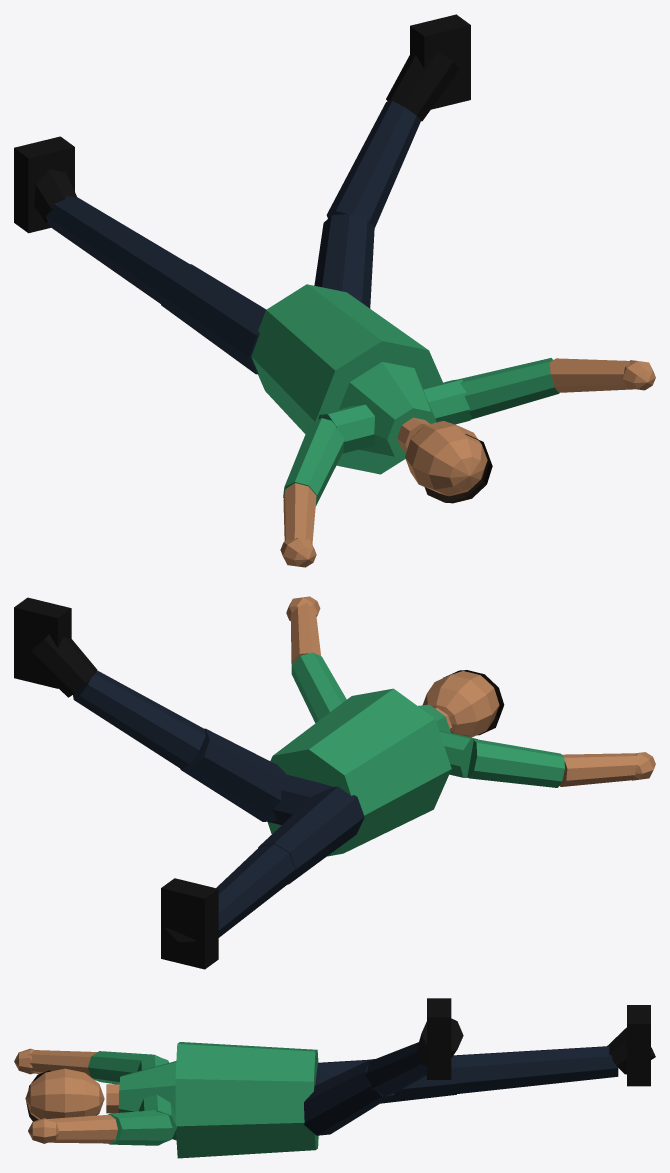
File: dancer_05_one_leg_kick_cm.obj
3 renders of one model, top to bottom at view 1: azimuth 30°, elevation 25°; view 2: azimuth 150°, elevation 25°; view 3: azimuth 270°, elevation 25°, orthographic. The views are drawn at different scales.
Visible parts, largest first — view 1: dancer_05_one_leg_kick; view 2: dancer_05_one_leg_kick; view 3: dancer_05_one_leg_kick.
Boxes of the visible parts, left/top/right/bottom form: dancer_05_one_leg_kick: left=14, top=14, right=655, bottom=567; dancer_05_one_leg_kick: left=14, top=596, right=655, bottom=969; dancer_05_one_leg_kick: left=14, top=998, right=655, bottom=1158.
Bounding box in the file's own units: 119 × 75.49 × 186.
